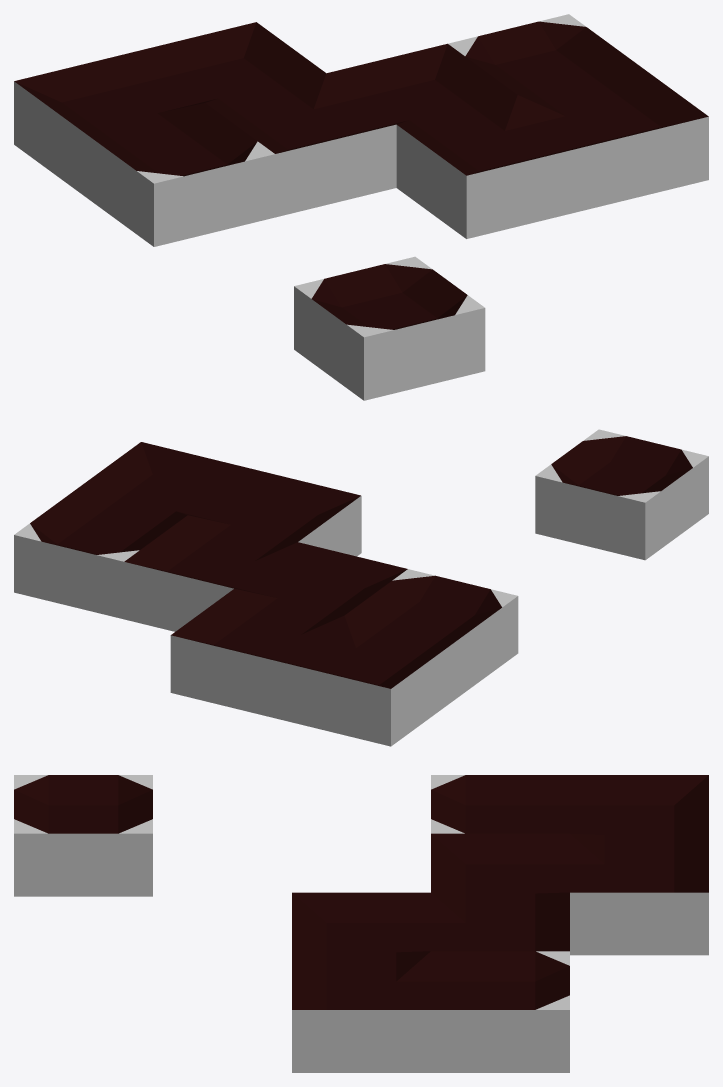
The model's file is 14s_path.obj.
The picture shows the model from 3 angles, top to bottom: view 1: azimuth 30°, elevation 25°; view 2: azimuth 150°, elevation 25°; view 3: azimuth 270°, elevation 25°; orthographic projection. The views are drawn at different scales.
Visible parts, largest first — view 1: hole.0.0_Cube.178, ending.0.3_ending.353, corner.2.2_corner.884, corner.3.2_corner.886, corner.1.3_corner.882, corner.0.4_corner.881, corner.1.4_corner.883, corner.2.3_corner.885, ending.3.3_ending.354; view 2: hole.0.0_Cube.178, corner.0.4_corner.881, corner.1.4_corner.883, ending.3.3_ending.354, ending.0.3_ending.353, corner.2.3_corner.885, corner.2.2_corner.884, corner.3.2_corner.886, corner.1.3_corner.882; view 3: hole.0.0_Cube.178, ending.3.3_ending.354, corner.1.4_corner.883, corner.3.2_corner.886, corner.1.3_corner.882, corner.2.2_corner.884, corner.0.4_corner.881, ending.0.3_ending.353, corner.2.3_corner.885.
Boxes of the visible parts, x1=… form: hole.0.0_Cube.178: x1=294, y1=256, x2=485, y2=400; ending.0.3_ending.353: x1=84, y1=103, x2=275, y2=246; corner.2.2_corner.884: x1=396, y1=95, x2=587, y2=238; corner.3.2_corner.886: x1=518, y1=65, x2=708, y2=209; corner.1.3_corner.882: x1=206, y1=73, x2=396, y2=217; corner.0.4_corner.881: x1=14, y1=51, x2=204, y2=195; corner.1.4_corner.883: x1=135, y1=22, x2=326, y2=111; corner.2.3_corner.885: x1=326, y1=43, x2=517, y2=132; ending.3.3_ending.354: x1=448, y1=14, x2=638, y2=103; hole.0.0_Cube.178: x1=535, y1=429, x2=708, y2=560; corner.0.4_corner.881: x1=281, y1=616, x2=454, y2=746; corner.1.4_corner.883: x1=170, y1=589, x2=343, y2=719; ending.3.3_ending.354: x1=14, y1=488, x2=186, y2=619; ending.0.3_ending.353: x1=344, y1=569, x2=518, y2=699; corner.2.3_corner.885: x1=124, y1=515, x2=297, y2=631; corner.2.2_corner.884: x1=188, y1=468, x2=361, y2=556; corner.3.2_corner.886: x1=78, y1=442, x2=250, y2=522; corner.1.3_corner.882: x1=234, y1=542, x2=407, y2=622; hole.0.0_Cube.178: x1=14, y1=775, x2=152, y2=896; ending.3.3_ending.354: x1=431, y1=951, x2=569, y2=1072; corner.1.4_corner.883: x1=570, y1=834, x2=708, y2=955; corner.3.2_corner.886: x1=292, y1=951, x2=430, y2=1072; corner.1.3_corner.882: x1=431, y1=833, x2=569, y2=908; corner.2.2_corner.884: x1=292, y1=892, x2=430, y2=966; corner.0.4_corner.881: x1=570, y1=775, x2=708, y2=849; ending.0.3_ending.353: x1=431, y1=775, x2=569, y2=833; corner.2.3_corner.885: x1=431, y1=892, x2=569, y2=951.
Bounding box in the file's own units: 8 × 1 × 10.
